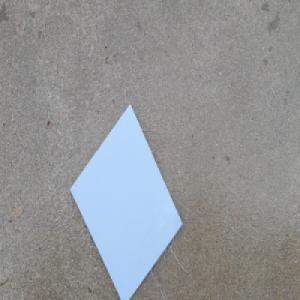PaintChip: (68, 101, 184, 300)
